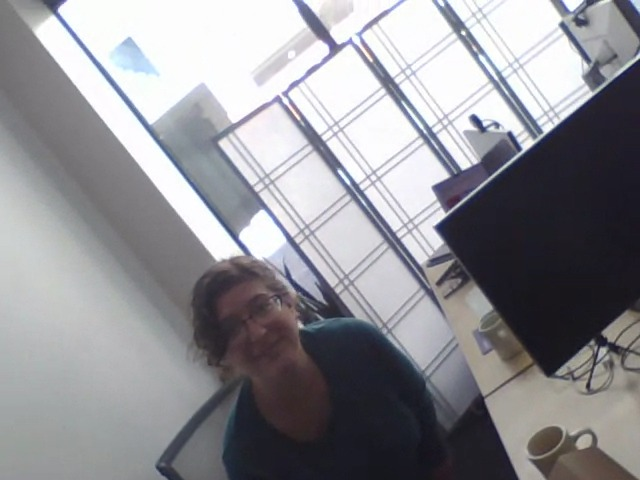face: (212, 277, 303, 383)
